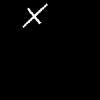single_crochet: (23, 4, 46, 26)
